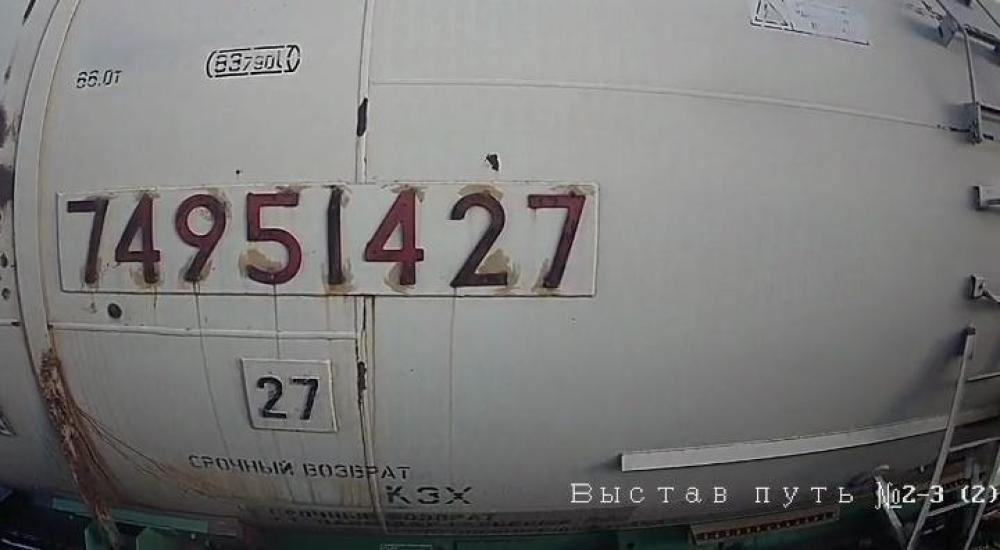Wagon-number: (60, 187, 588, 296)
